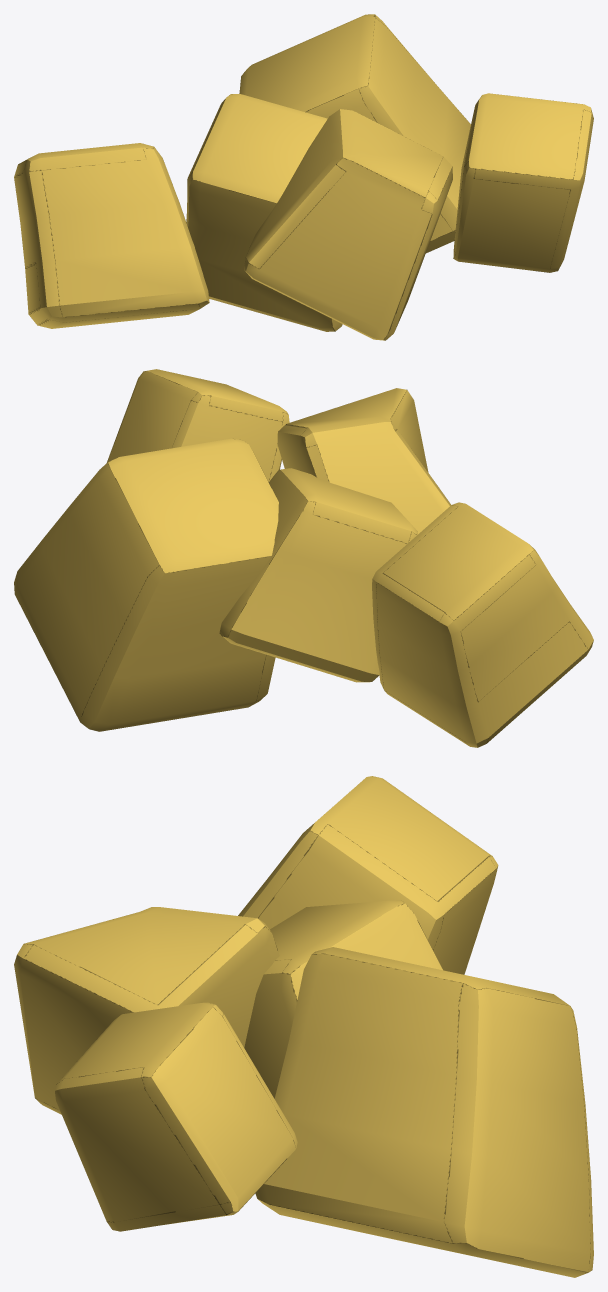
3 views of the same model, one above another, from view 1: azimuth 30°, elevation 25°; view 2: azimuth 150°, elevation 25°; view 3: azimuth 270°, elevation 25° (orthographic). The views are drawn at different scales.
Parts seen in each view (by area): view 1: Cube.003_Baked; view 2: Cube.003_Baked; view 3: Cube.003_Baked.
Boxes of the visible parts, x1,y1,x2,y2 form: Cube.003_Baked: [14, 14, 593, 340]; Cube.003_Baked: [14, 369, 593, 747]; Cube.003_Baked: [14, 776, 593, 1277].
Bounding box in the file's own units: 88.32 × 40.16 × 66.79.
Materials: 1 (1 with a texture image).
